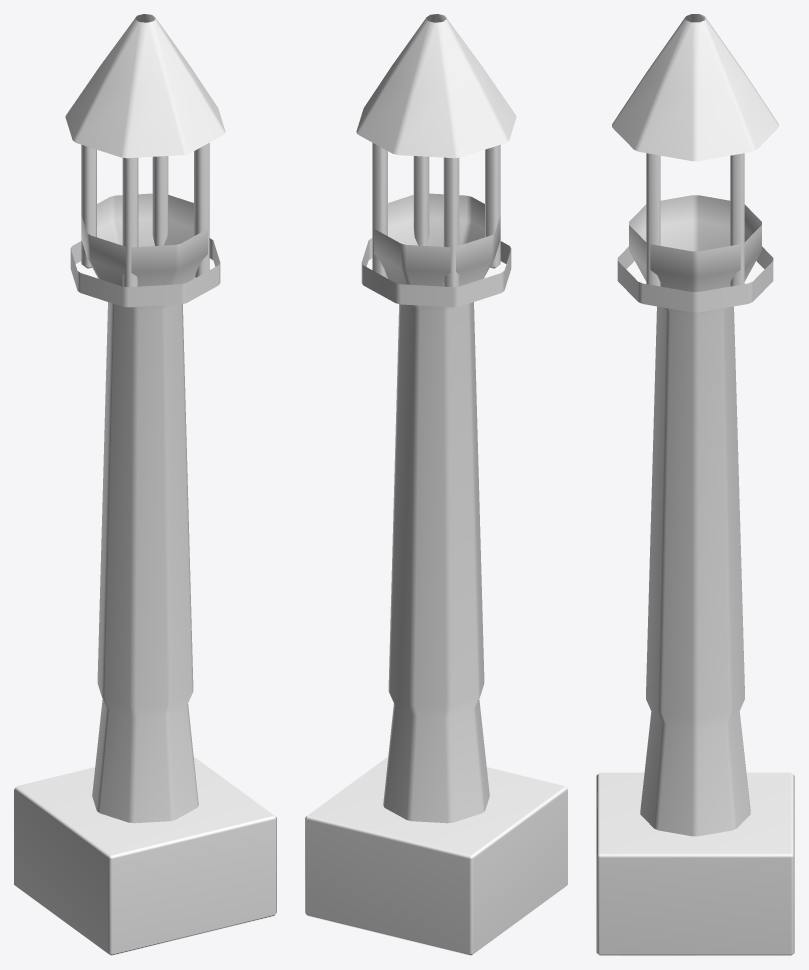
The model's file is lantern.glb.
3 renders of one model, left to right at view 1: azimuth 30°, elevation 25°; view 2: azimuth 150°, elevation 25°; view 3: azimuth 270°, elevation 25°, orthographic.
Parts seen in each view (by area): view 1: Lantern; view 2: Lantern; view 3: Lantern.
Part boxes in pixels (x1=…): Lantern: x1=14, y1=14, x2=276, y2=955; Lantern: x1=305, y1=14, x2=567, y2=955; Lantern: x1=596, y1=14, x2=794, y2=955.
Size of the model in its own units: 0.7 by 3.5 by 0.7.
1 material, 1 textured.
